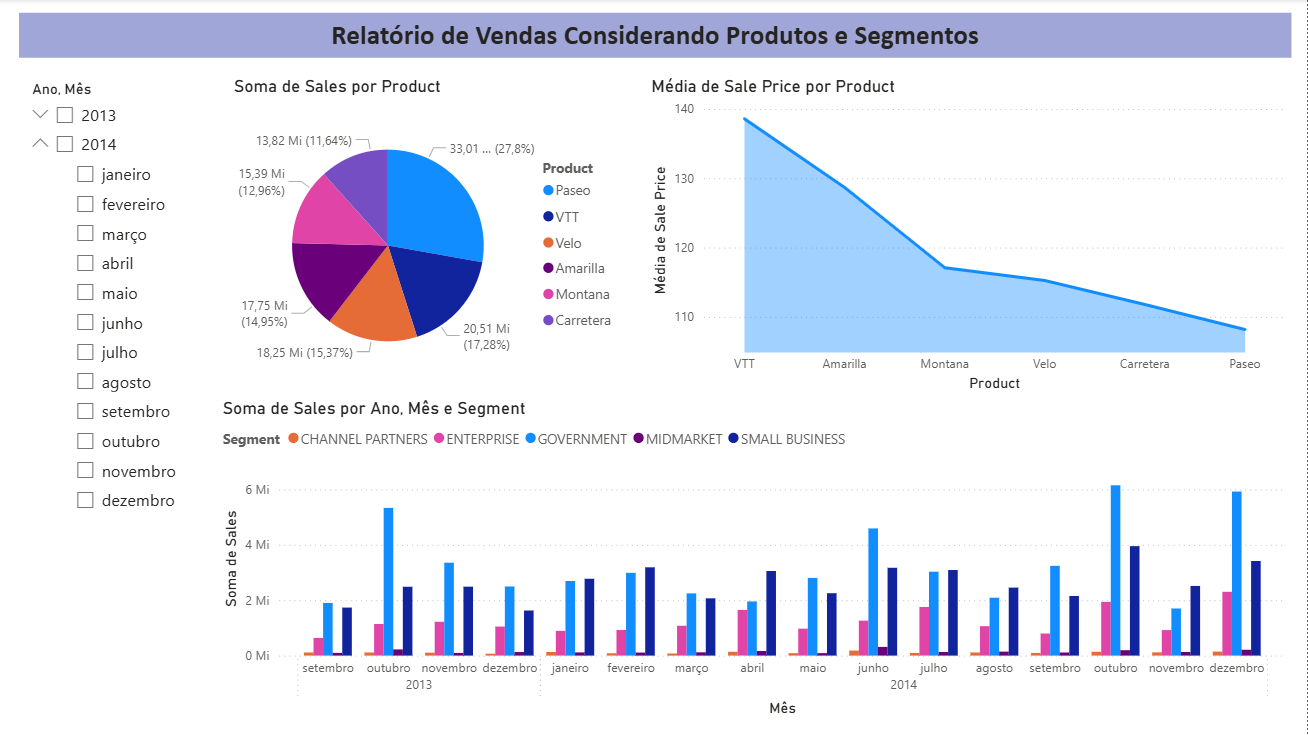

This screenshot's page, from the dashboard's own definition file:
{"tool":"powerbi","page":{"name":"Relatório de Vendas Considerando Produtos e Segmentos","canvas":[1280,720],"ordinal":0},"visuals":[{"type":"pieChart","fields":{"Category":["financials.Product"],"Y":["Sum(financials.Sales)"]},"box":[225,74.1,388.3,314.2],"z":0},{"type":"areaChart","fields":{"Category":["financials.Product"],"Y":["Avg(financials.Sale Price)"]},"box":[634,74.1,629.8,314.2],"z":1000},{"type":"clusteredColumnChart","fields":{"Category":["financials.Date.Variation.Hierarquia de datas.Ano","financials.Date.Variation.Hierarquia de datas.Mês"],"Y":["Sum(financials.Sales)"],"Series":["financials.Segment"]},"box":[214.1,389.7,1049.7,317],"z":2000},{"type":"slicer","fields":{"Values":["financials.Date.Variation.Hierarquia de datas.Ano","financials.Date.Variation.Hierarquia de datas.Mês"]},"box":[19.2,74.1,194.9,631.2],"z":3000},{"type":"textbox","box":[19.2,13.7,1244.6,43.9],"z":4000}]}

Visuals, with their boxes in screenshot pixels (x1, y1, x2, y2), scaled from the page's 1280x720 canvas onto the 1308x735 screenshot:
pieChart - financials.Product x Sum(financials.Sales): {"left": 230, "top": 76, "right": 627, "bottom": 396}
areaChart - financials.Product x Avg(financials.Sale Price): {"left": 648, "top": 76, "right": 1291, "bottom": 396}
clusteredColumnChart - financials.Date.Variation.Hierarquia de datas.Ano x financials.Date.Variation.Hierarquia de datas.Mês: {"left": 219, "top": 398, "right": 1291, "bottom": 721}
slicer - financials.Date.Variation.Hierarquia de datas.Ano x financials.Date.Variation.Hierarquia de datas.Mês: {"left": 20, "top": 76, "right": 219, "bottom": 720}
textbox: {"left": 20, "top": 14, "right": 1291, "bottom": 59}
